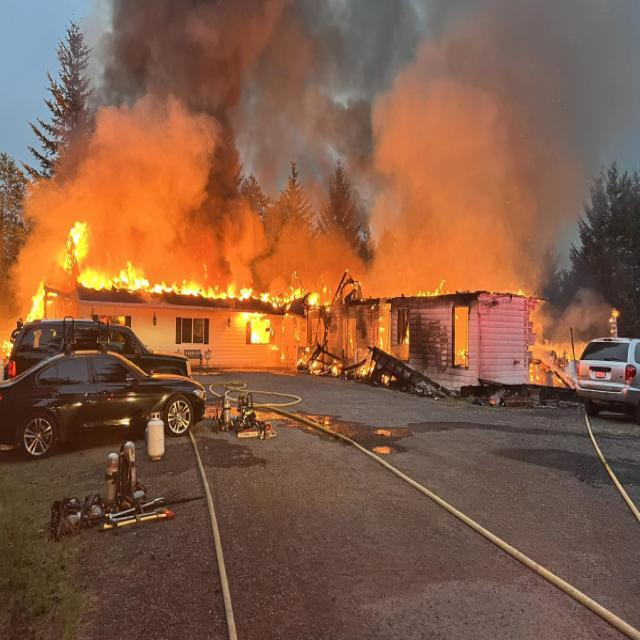Fire: (82, 258, 336, 312), (65, 217, 112, 300)
Smoke: (22, 0, 640, 284)
